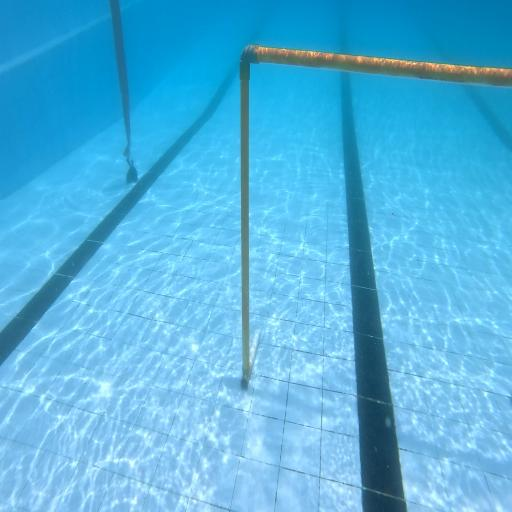gate: (240, 43, 512, 392)
